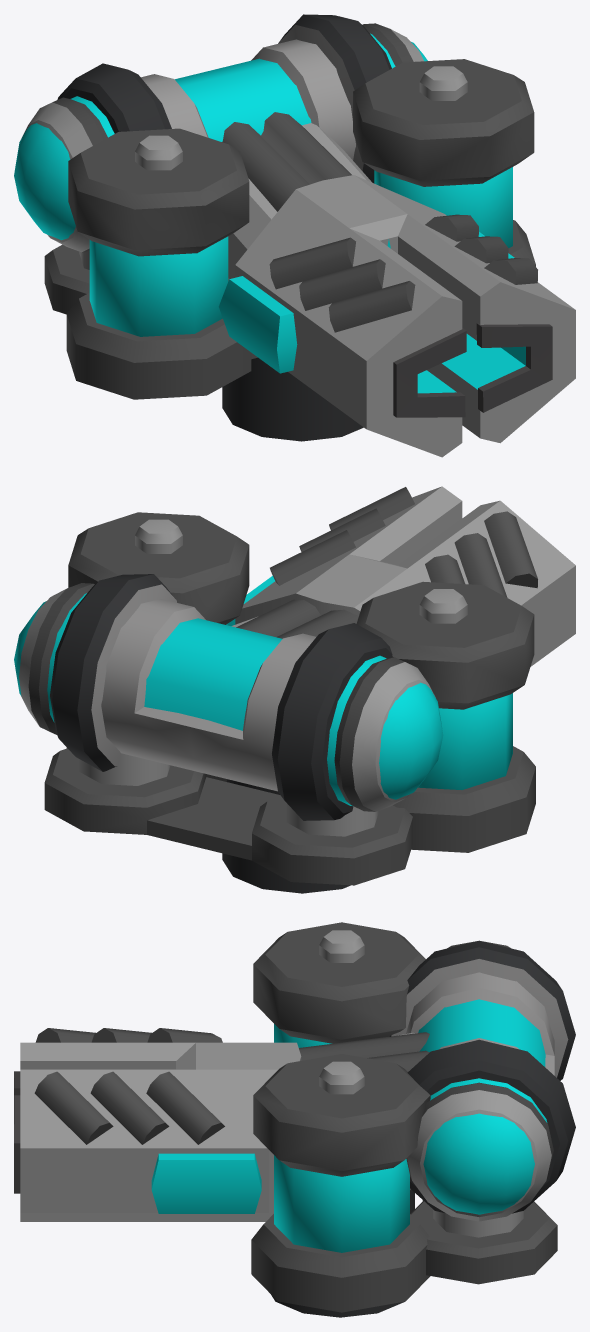
Rendered from Laser_t_2_LP.fbx.
3 views of the same model, one above another, from view 1: azimuth 30°, elevation 25°; view 2: azimuth 150°, elevation 25°; view 3: azimuth 270°, elevation 25° (orthographic). The views are drawn at different scales.
Parts seen in each view (by area): view 1: Laser_t_2; view 2: Laser_t_2; view 3: Laser_t_2.
Boxes of the visible parts, x1,y1,x2,y2 form: Laser_t_2: (14,14,575,457); Laser_t_2: (14,486,575,893); Laser_t_2: (14,922,575,1317).
Bounding box in the file's own units: 125 × 82.05 × 143.
